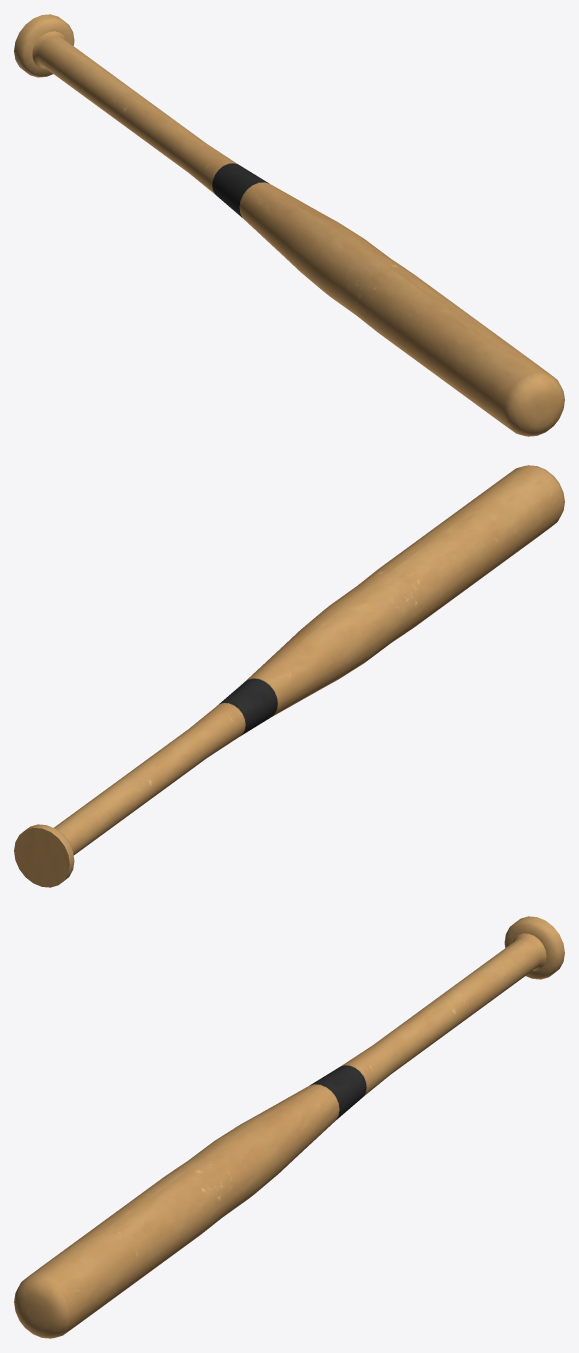
Rendered from bat2_tape.glb.
3 renders of one model, top to bottom at view 1: azimuth 30°, elevation 25°; view 2: azimuth 150°, elevation 25°; view 3: azimuth 330°, elevation 25°, orthographic.
Visible parts, largest first — view 1: body; view 2: body; view 3: body.
Part boxes in pixels (x1=…): body: x1=14, y1=14, x2=564, y2=436; body: x1=14, y1=465, x2=564, y2=887; body: x1=14, y1=916, x2=564, y2=1338.
Bounding box in the file's own units: 0.0579 × 0.0579 × 0.84.
Materials: 1 (1 with a texture image).
